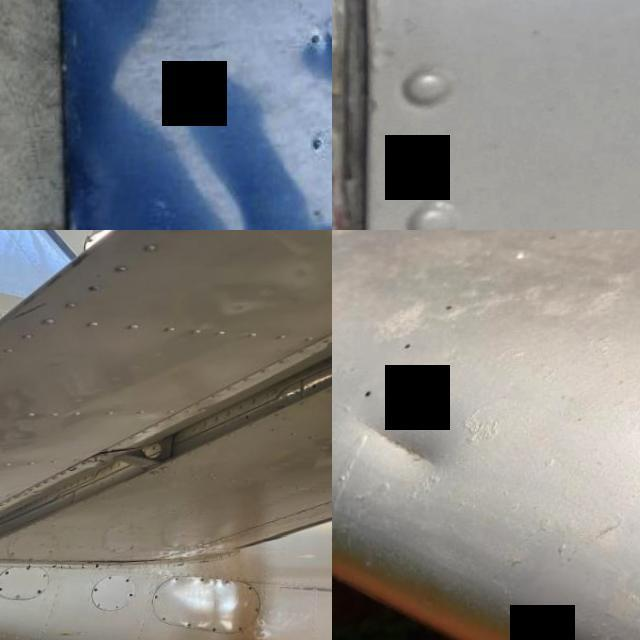Dent: (334, 376, 479, 513)
Missing_Fastener: (188, 624, 196, 630), (0, 587, 6, 593), (39, 590, 44, 596), (94, 589, 100, 594), (163, 620, 170, 624), (250, 591, 257, 594), (7, 572, 12, 576), (132, 595, 136, 600), (240, 631, 246, 634), (128, 582, 134, 584), (178, 580, 181, 584)
